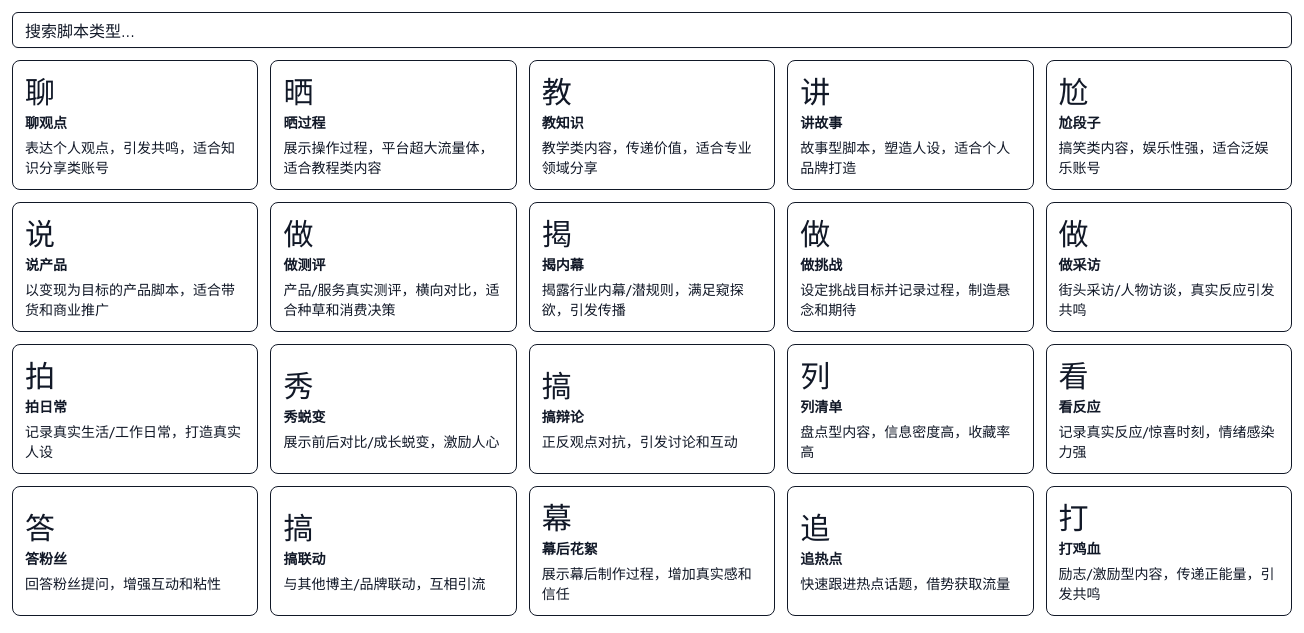
ScriptTypeInlineCards › showSearch=true: renders search input and filters cards
The width and height of the screenshot is (1304, 633).
In the field with placeholder "搜索脚本类型...": (652, 30) [12,12,1292,48], type "聊观点"
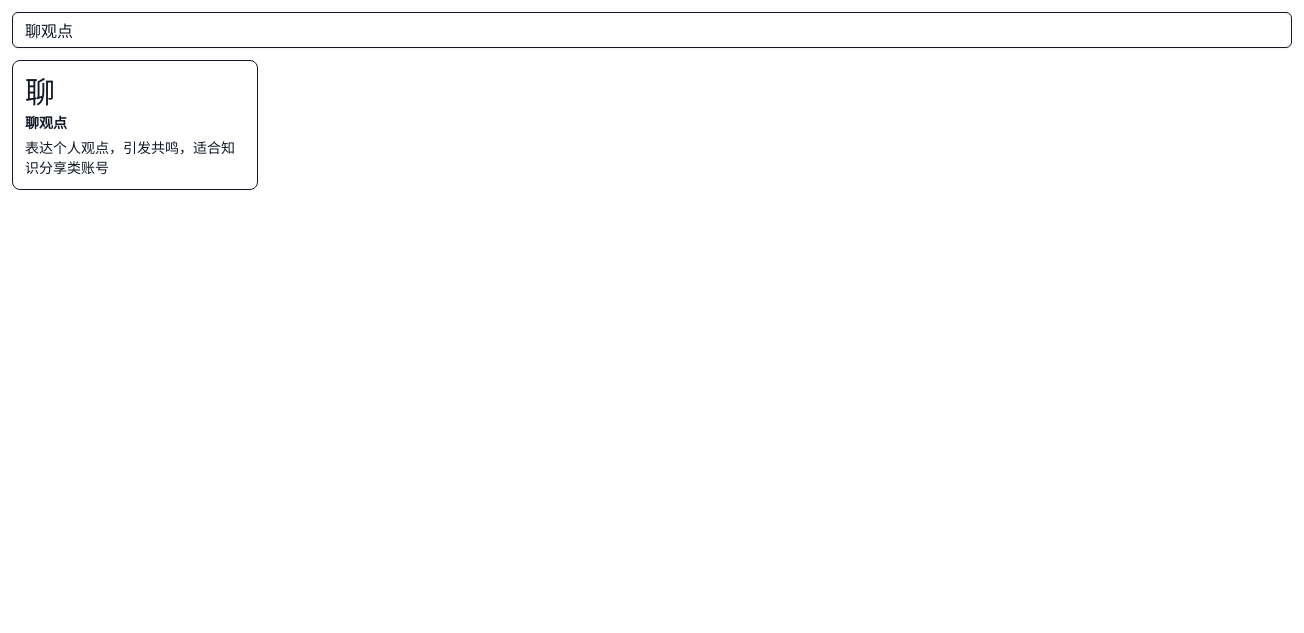
Check: the text "聊观点" is shown, box [25,113,67,132]
Check: the button "打鸡血" is gone
